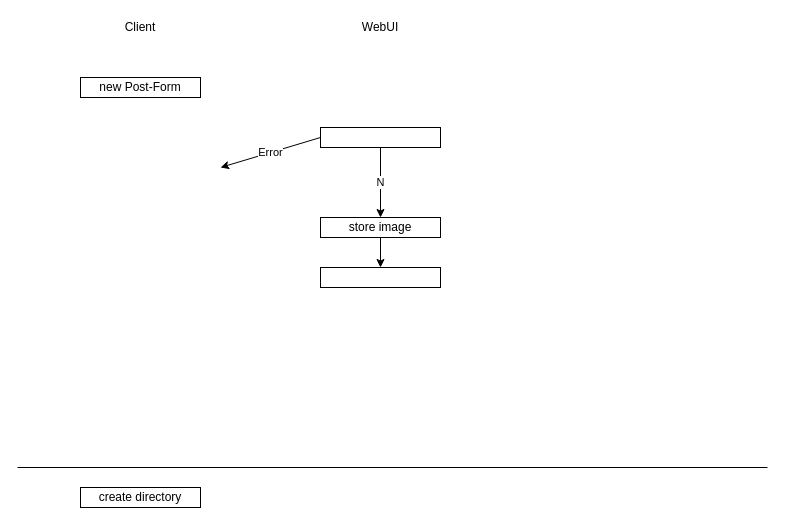
Image size: 786x525. Some labels were removed from this diagram. The shapes that lost their labels are listed below. From the top down, each one's centre as x and y in pixels, then its label:
pixel 380 137: Image exist
pixel 380 277: add Tags
